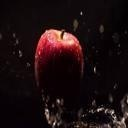apple: (34, 28, 84, 113)
